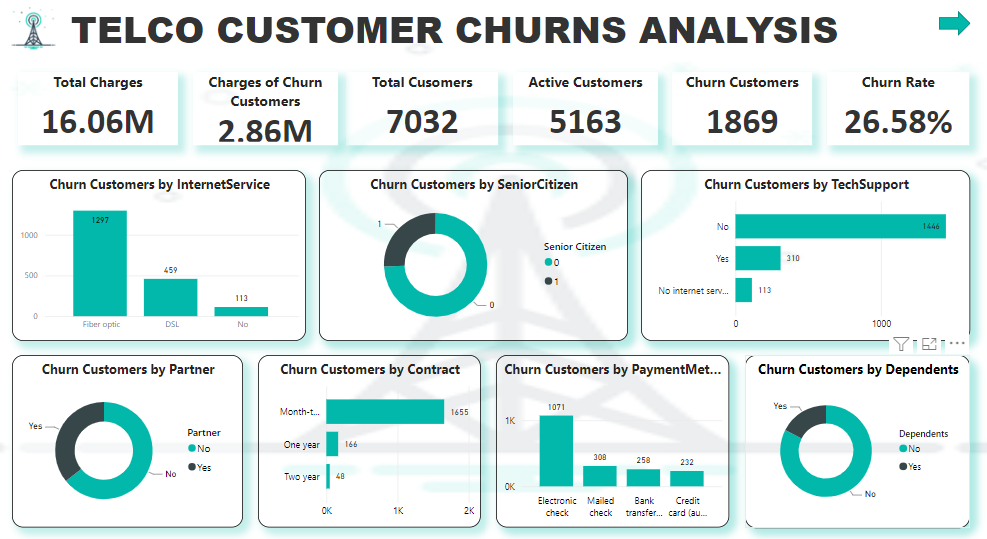

What the dashboard file says about the page in this screenshot:
{"tool":"powerbi","page":{"name":"Page 1","canvas":[1317,720],"ordinal":0},"visuals":[{"type":"card","title":"Total Cusomers","fields":{"Values":["CountNonNull(Telco-Customer-Churn.customerID)"]},"box":[462.5,97.9,203,97.9],"z":0},{"type":"barChart","title":"Churn Customers by Contract","fields":{"Category":["Telco-Customer-Churn.Contract"],"Y":["Telco-Customer-Churn.Churn Customers"]},"box":[345.6,475.2,296.6,230.4],"z":1000},{"type":"card","title":"Total Charges","fields":{"Values":["Sum(Telco-Customer-Churn.TotalCharges)"]},"box":[25.9,97.9,213.1,97.9],"z":2000},{"type":"card","title":"Charges of Churn Customers","fields":{"Values":["Sum(Telco-Customer-Churn.TotalCharges)"]},"box":[259.2,97.9,193,97.9],"z":3000},{"type":"card","title":"Churn Customers","fields":{"Values":["Telco-Customer-Churn.Count of Churn for Yes"]},"box":[897.7,97.9,187.2,97.9],"z":4000},{"type":"card","title":"Churn Rate","fields":{"Values":["Telco-Customer-Churn.Measure"]},"box":[1104.5,97.9,190.1,97.9],"z":5000},{"type":"card","title":"Active Customers","fields":{"Values":["CountNonNull(Telco-Customer-Churn.customerID)"]},"box":[685.2,97.9,193,97.9],"z":6000},{"type":"columnChart","fields":{"Category":["Telco-Customer-Churn.InternetService"],"Y":["Telco-Customer-Churn.Churn Customers"]},"box":[17.3,227.5,391.7,227.5],"z":7000},{"type":"donutChart","fields":{"Category":["Telco-Customer-Churn.SeniorCitizen"],"Y":["Telco-Customer-Churn.Churn Customers"]},"box":[426.2,227.5,411.8,227.5],"z":8000},{"type":"barChart","fields":{"Category":["Telco-Customer-Churn.TechSupport"],"Y":["Telco-Customer-Churn.Churn Customers"]},"box":[855.4,227.5,439.2,227.5],"z":9000},{"type":"donutChart","fields":{"Category":["Telco-Customer-Churn.Partner"],"Y":["Telco-Customer-Churn.Churn Customers"]},"box":[17.6,474.8,307.7,230.3],"z":10000},{"type":"columnChart","fields":{"Category":["Telco-Customer-Churn.PaymentMethod"],"Y":["Telco-Customer-Churn.Churn Customers"]},"box":[662.4,475.2,311,230.4],"z":11000},{"type":"textbox","box":[90.7,0,1143.4,77.8],"z":12000},{"type":"image","box":[0,0,90.7,77.8],"z":13000},{"type":"shape","box":[1252.8,15.8,41.8,33.1],"z":14000},{"type":"donutChart","fields":{"Y":["Telco-Customer-Churn.Churn Customers"],"Category":["Telco-Customer-Churn.Dependents"]},"box":[994.1,474.4,300.2,230.8],"z":15000}]}

Visuals, with their boxes in screenshot pixels (x1, y1, x2, y2), scaled from the page's 1317x720 canvas onto the 987x539 screenshot:
"Total Cusomers" card: 347,73,499,147
"Churn Customers by Contract" barChart: 259,356,481,528
"Total Charges" card: 19,73,179,147
"Charges of Churn Customers" card: 194,73,339,147
"Churn Customers" card: 673,73,813,147
"Churn Rate" card: 828,73,970,147
"Active Customers" card: 514,73,658,147
columnChart - Telco-Customer-Churn.InternetService x Telco-Customer-Churn.Churn Customers: 13,170,307,341
donutChart - Telco-Customer-Churn.SeniorCitizen x Telco-Customer-Churn.Churn Customers: 319,170,628,341
barChart - Telco-Customer-Churn.TechSupport x Telco-Customer-Churn.Churn Customers: 641,170,970,341
donutChart - Telco-Customer-Churn.Partner x Telco-Customer-Churn.Churn Customers: 13,355,244,528
columnChart - Telco-Customer-Churn.PaymentMethod x Telco-Customer-Churn.Churn Customers: 496,356,729,528
textbox: 68,0,925,58
image: 0,0,68,58
shape: 939,12,970,37
donutChart - Telco-Customer-Churn.Churn Customers x Telco-Customer-Churn.Dependents: 745,355,970,528
